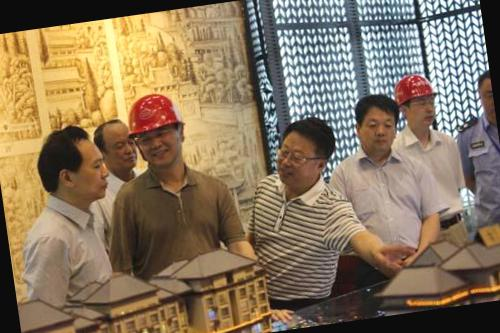no_helmet: (35, 122, 108, 212), (270, 112, 341, 190), (350, 91, 406, 158), (90, 109, 140, 177), (470, 69, 495, 123)
